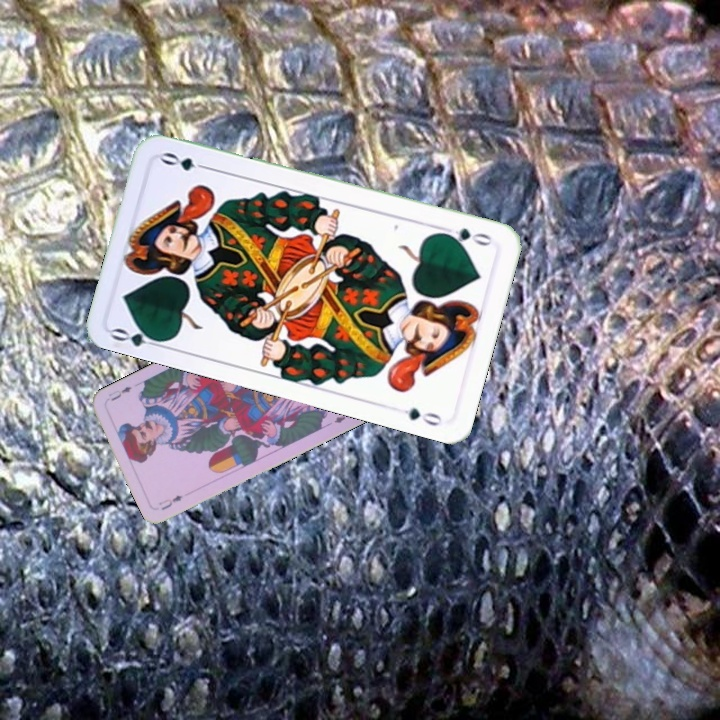EU: (155, 491, 185, 513)
GO: (108, 321, 168, 351), (437, 223, 495, 249)
